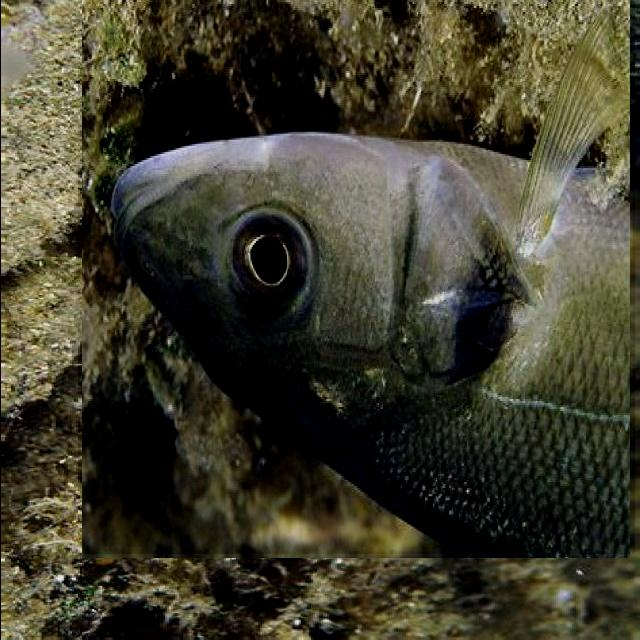Healthy Fish: (77, 0, 634, 554)
